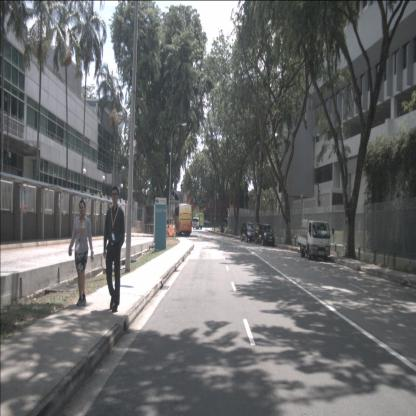human-pedestrian-adult: (103, 186, 125, 312), (68, 200, 94, 306)
vehicle-bus-rigid: (174, 204, 192, 236)
vehicle-car: (255, 224, 275, 246), (240, 222, 259, 243), (198, 218, 210, 228)
vehicle-truck: (297, 220, 331, 262), (192, 213, 205, 229)
